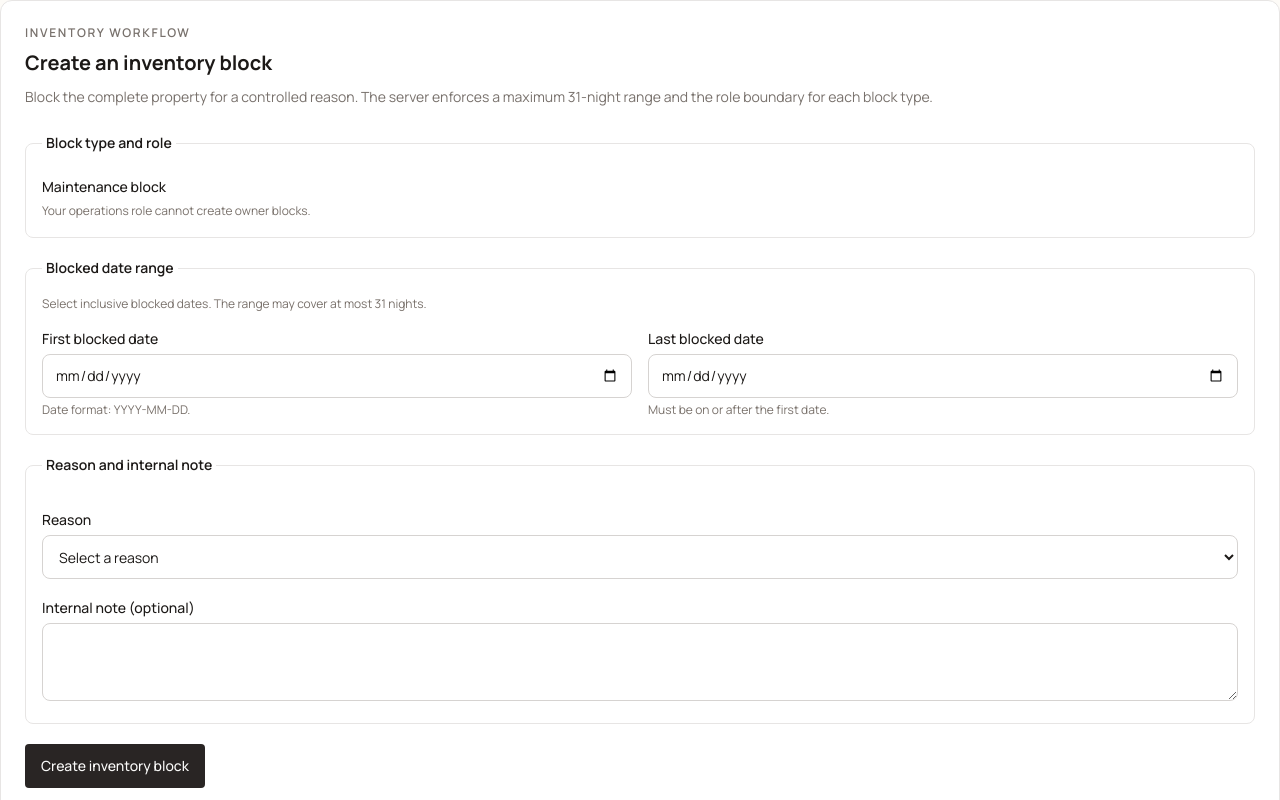
Test case: administrator operations role visibility and action wiring › prevents a duplicate submit while the action is pending
Type "2026-08-01" into the date field labelled "First blocked date" at (337, 376), box [42, 354, 632, 398]
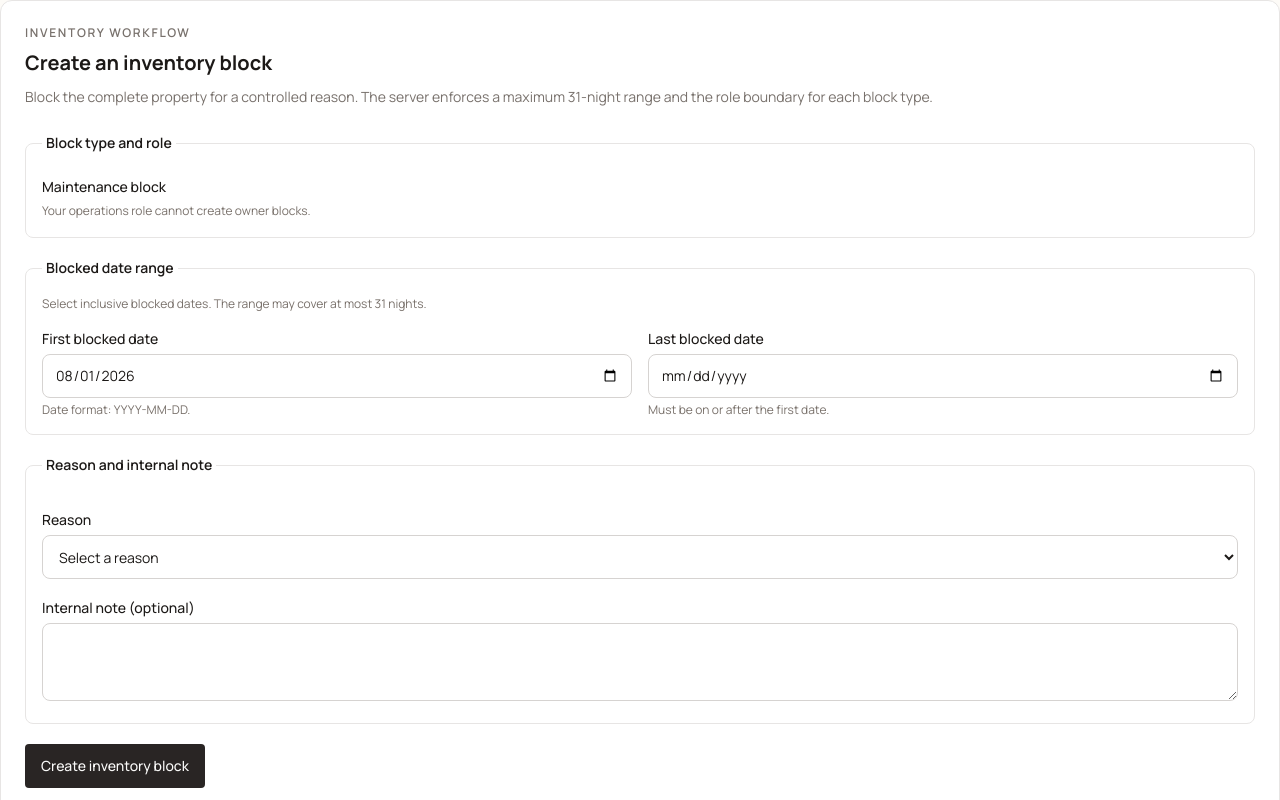
Type "2026-08-02" into the date field labelled "Last blocked date" at (943, 376), box [648, 354, 1238, 398]
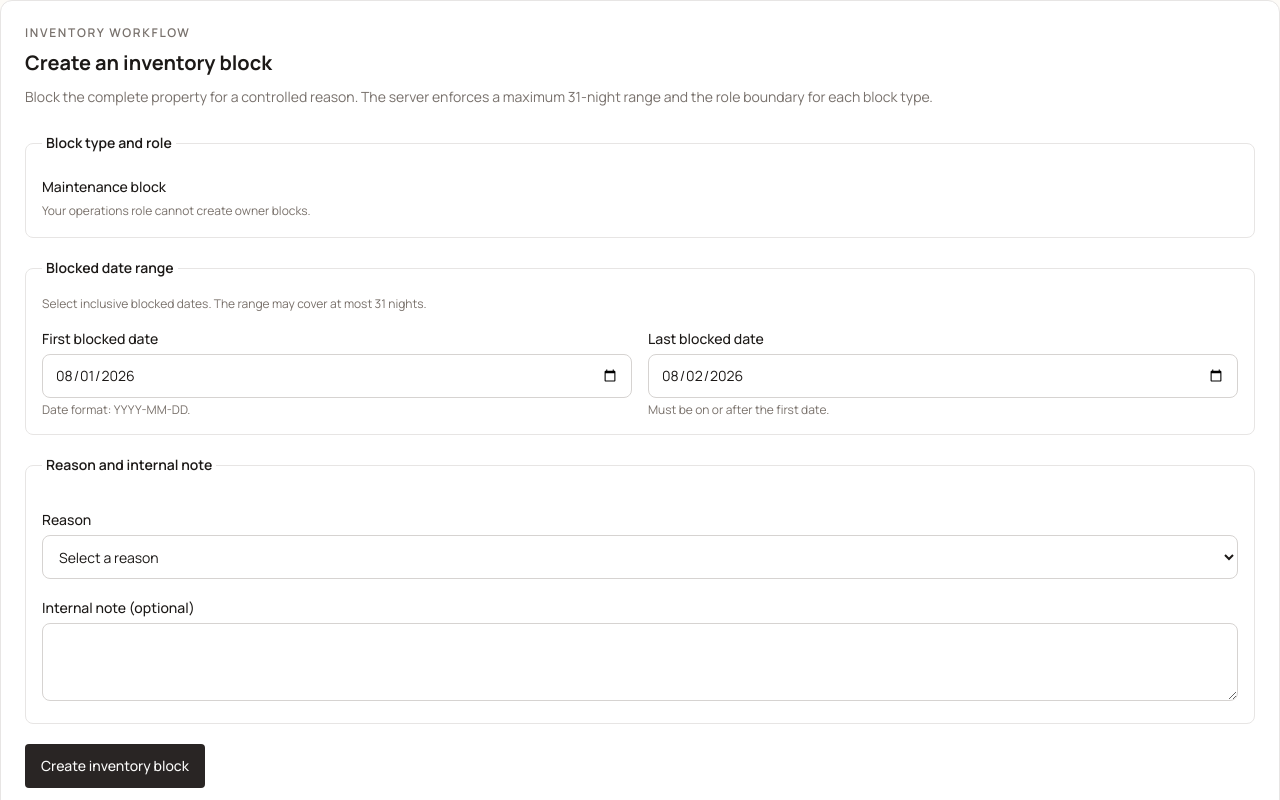
Select "Maintenance" in the dropdown labelled "Reason" at (640, 557), box [42, 535, 1238, 579]
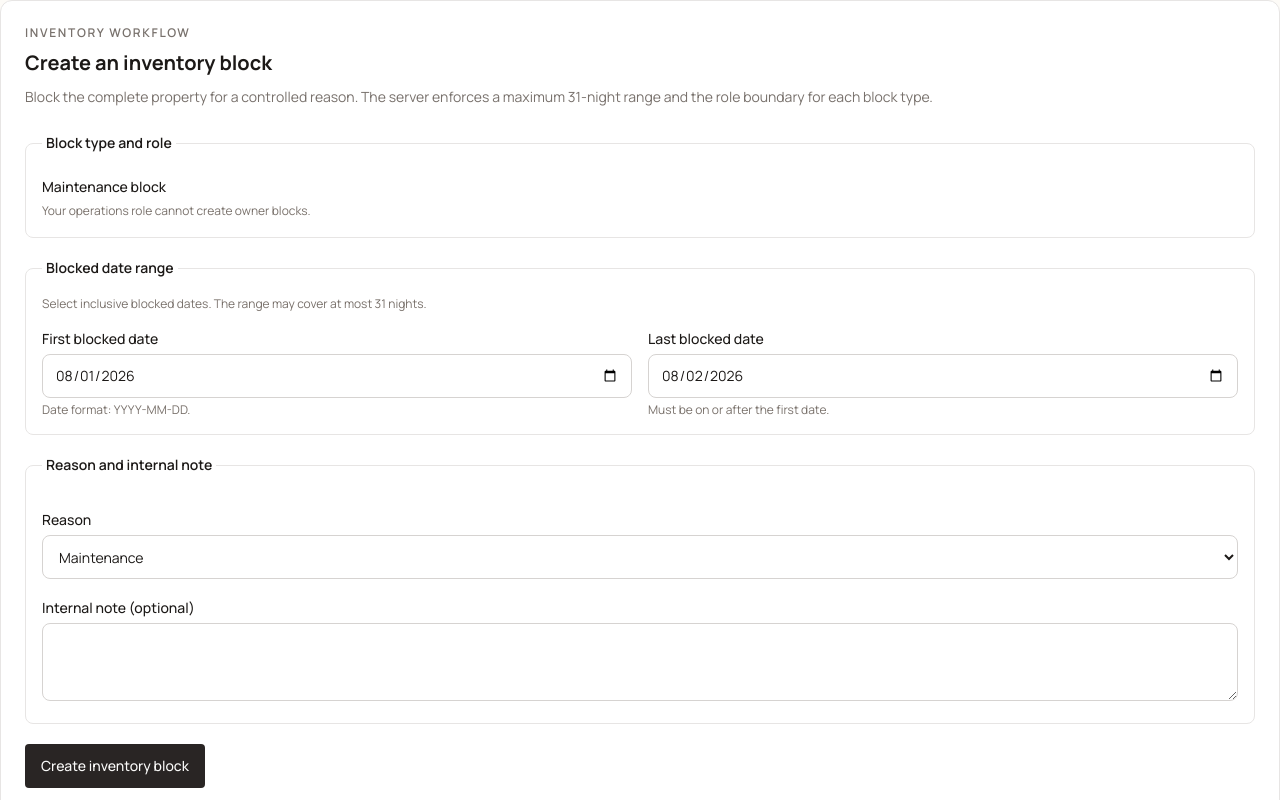
Click the button "Create inventory block" at (115, 766), box [25, 744, 205, 788]
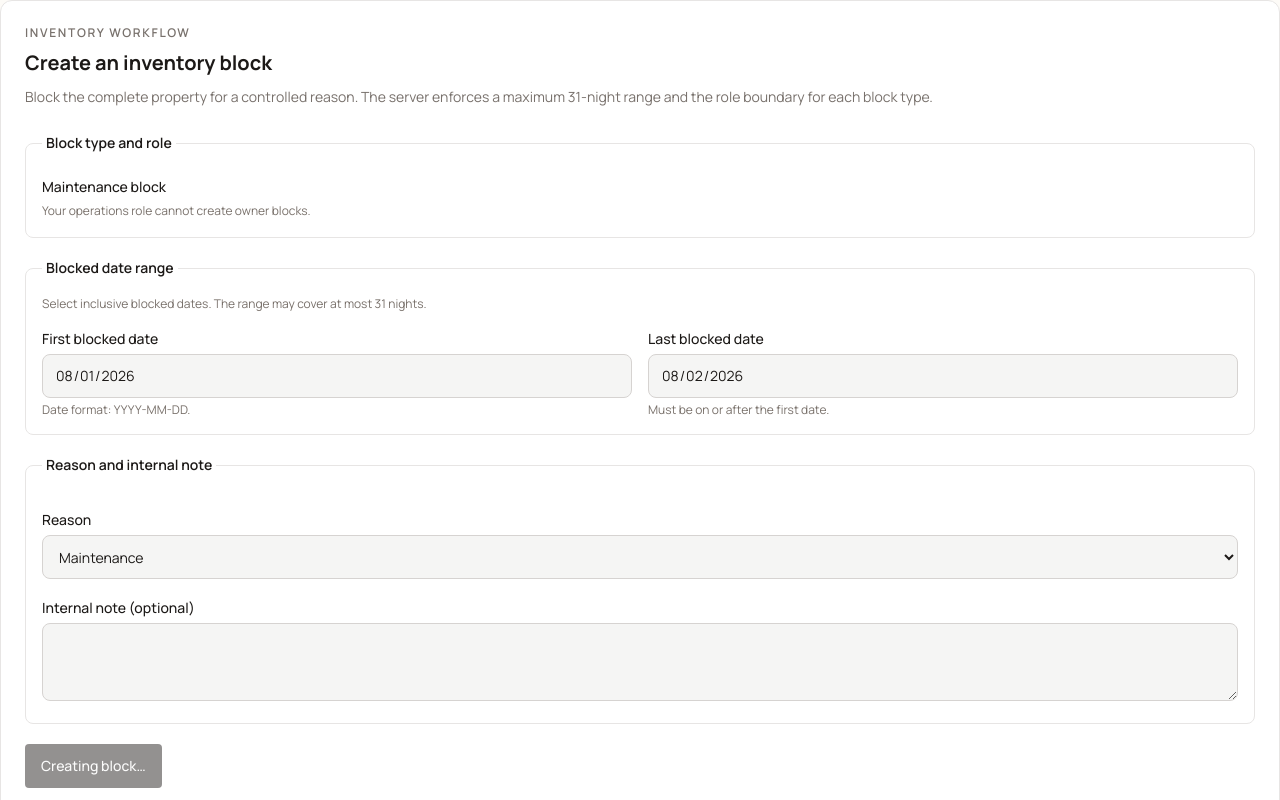
Expected: the button "Creating block…" is disabled
Click the button "Creating block…" at (93, 766), box [25, 744, 162, 788]
(page scrolled)
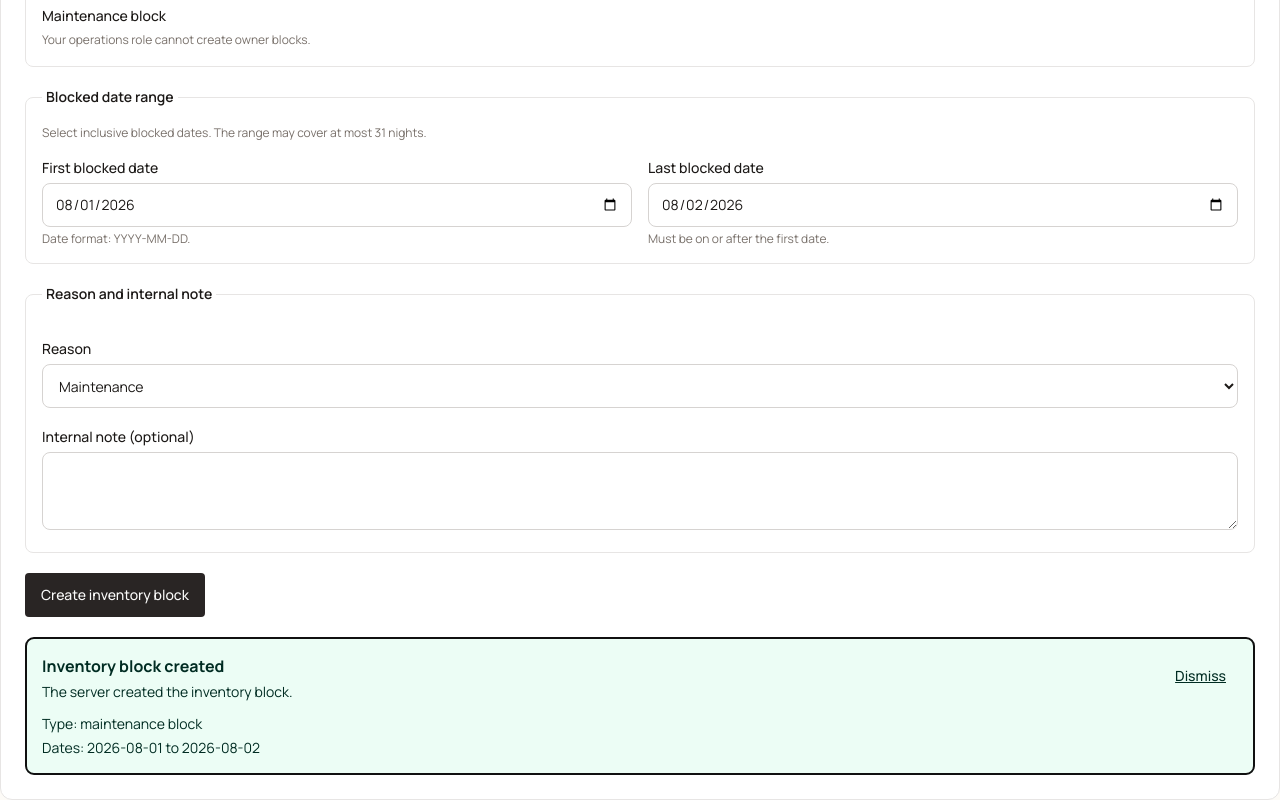
Expected: the heading "Inventory block created" is shown, [42, 655, 224, 677]
